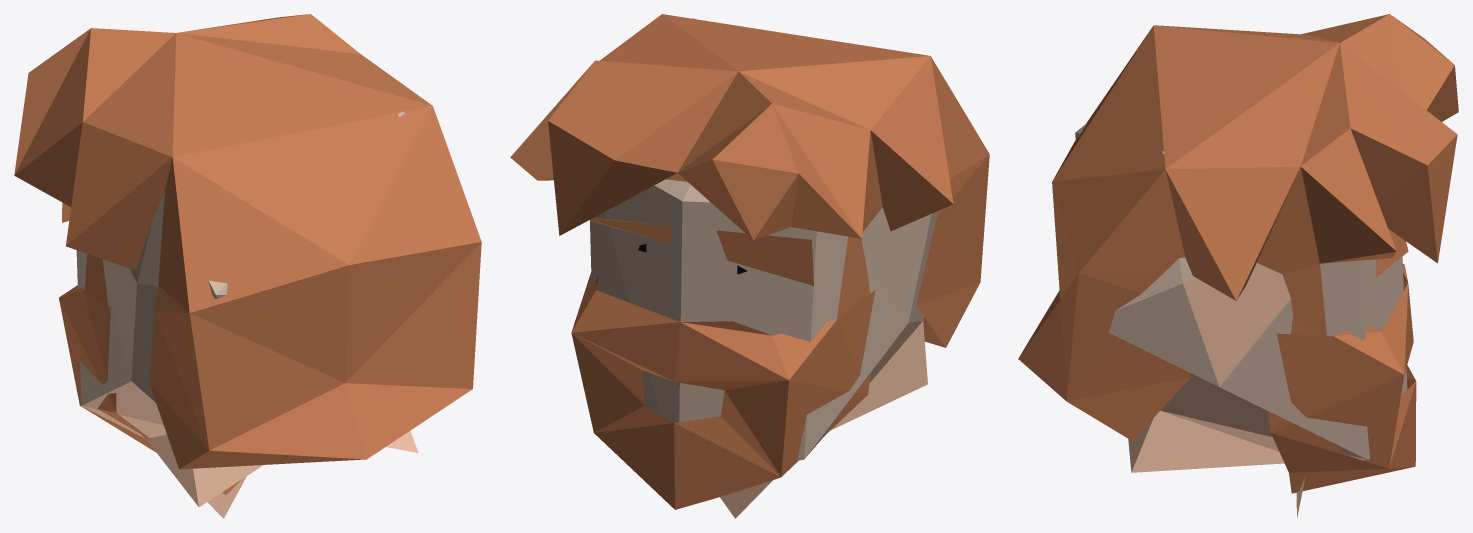
Rendered from Head_Lo.obj.
3 views of the same model, side by side, from view 1: azimuth 30°, elevation 25°; view 2: azimuth 150°, elevation 25°; view 3: azimuth 270°, elevation 25° (orthographic). The views are drawn at different scales.
Size of the model in its own units: 0.3281 by 0.3837 by 0.3298.
1 material, 1 textured.
